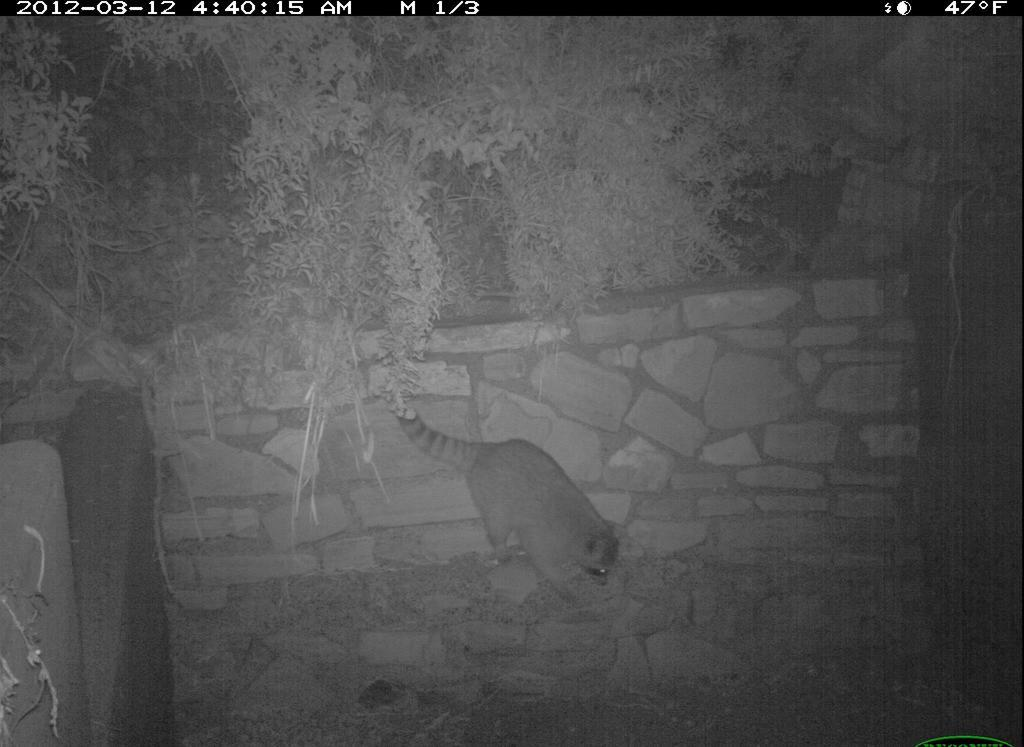raccoon: (387, 392, 630, 612)
